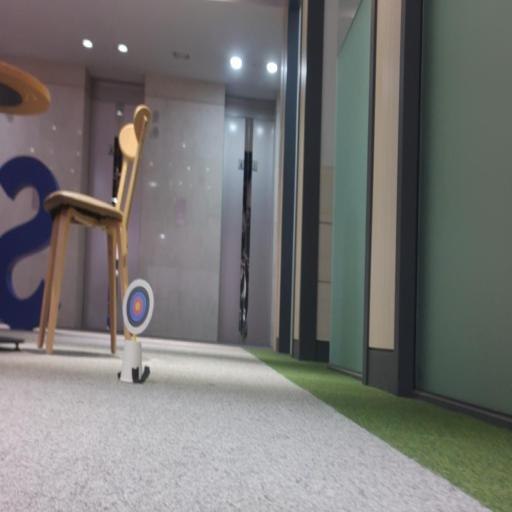target: (122, 279, 154, 336)
